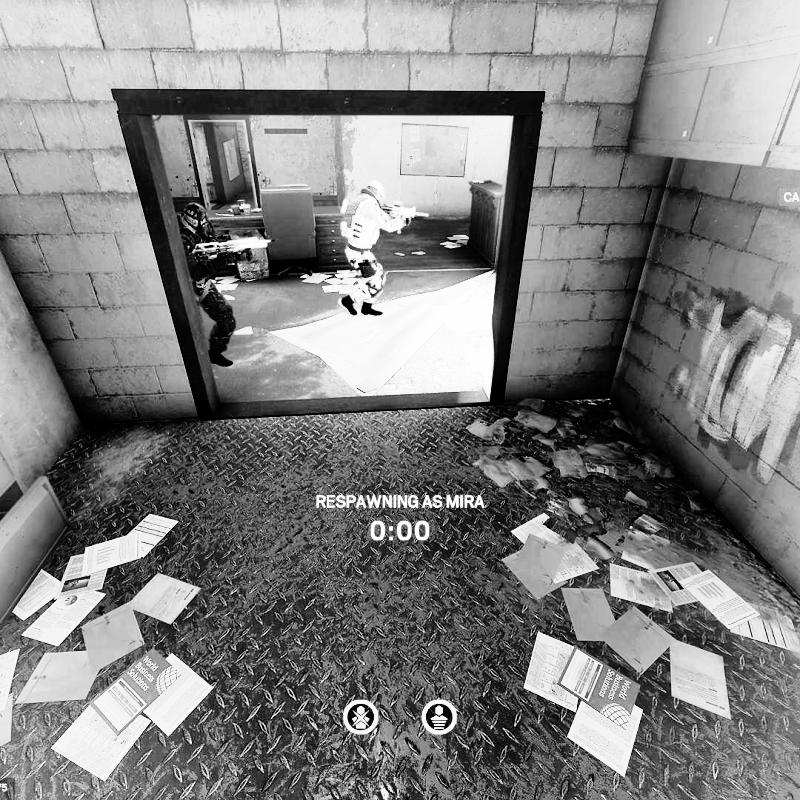Character: (178, 200, 273, 368), (337, 179, 426, 319)
Head: (182, 202, 212, 236), (368, 180, 387, 201)
